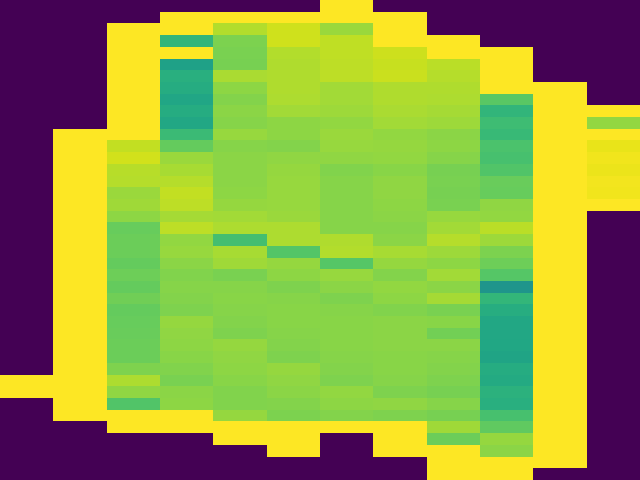car_0027: (3, 3, 640, 480)
